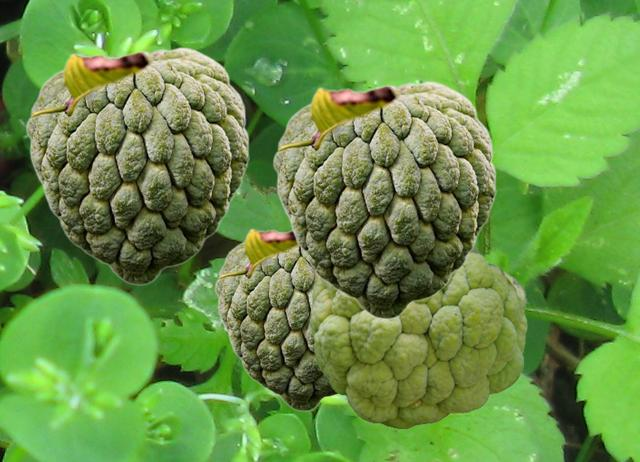atis: (25, 46, 248, 284), (272, 80, 495, 318), (310, 246, 526, 428), (214, 228, 337, 410)
